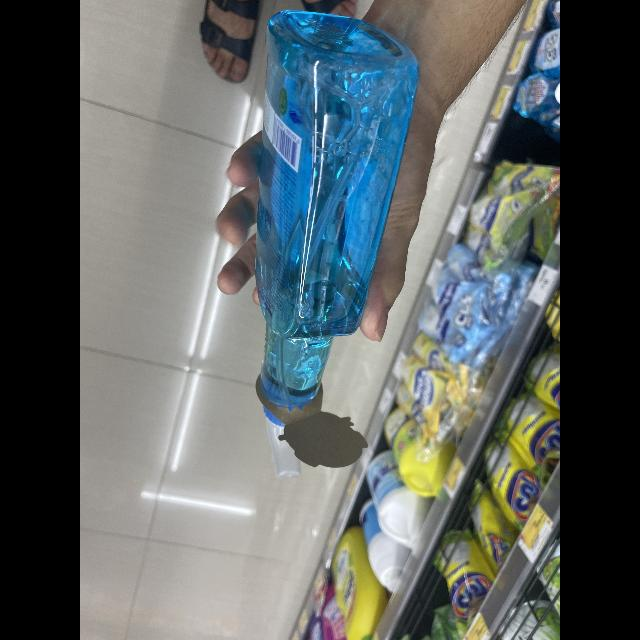chemical_plastic_bottle: (249, 4, 427, 488)
